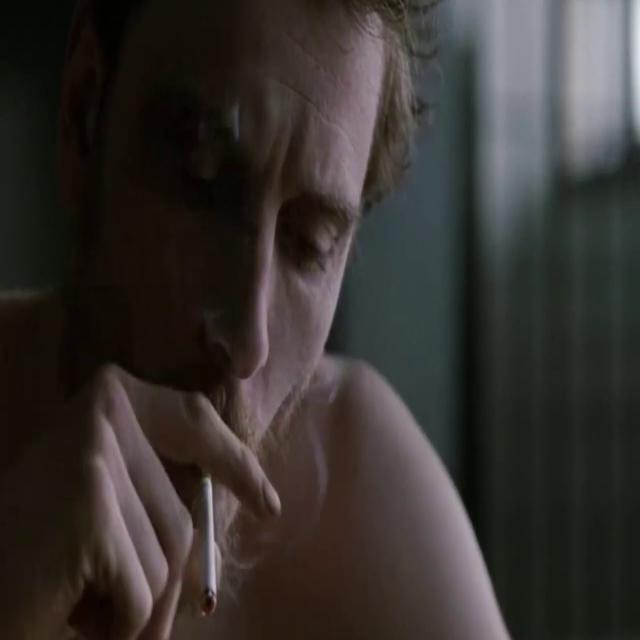Smooking: (189, 464, 229, 625)
